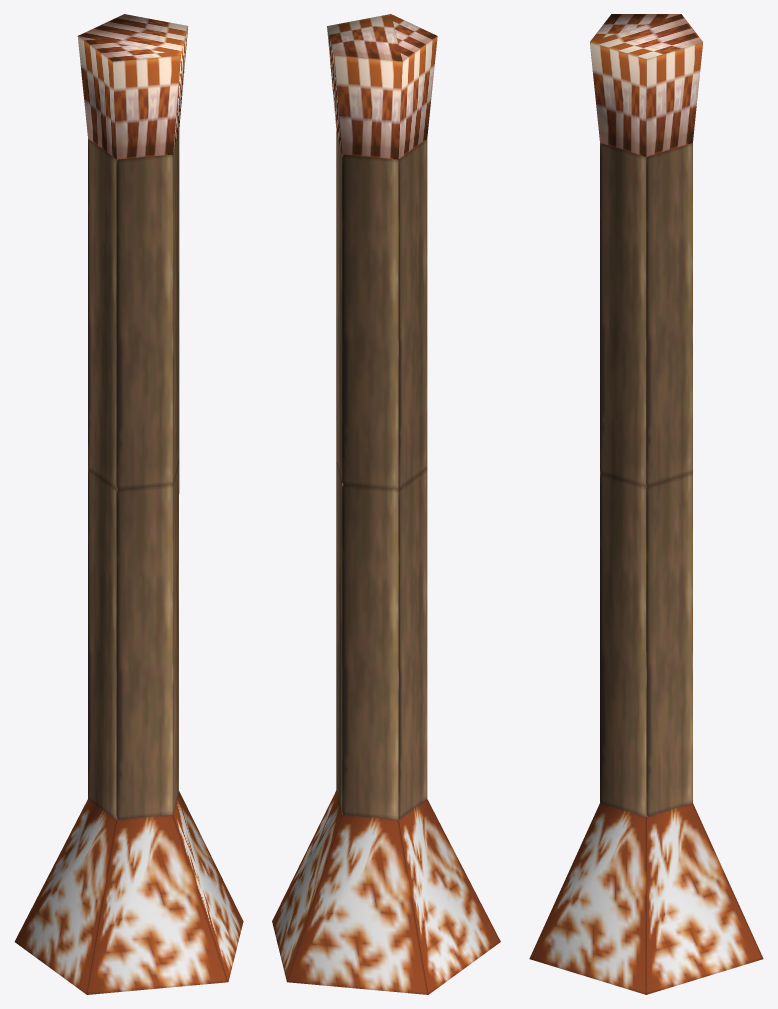
The picture shows the model from 3 angles, left to right: view 1: azimuth 30°, elevation 25°; view 2: azimuth 150°, elevation 25°; view 3: azimuth 270°, elevation 25°; orthographic projection.
Parts seen in each view (by area): view 1: T1L7M005_11; view 2: T1L7M005_11; view 3: T1L7M005_11.
Boxes of the visible parts, x1,y1,x2,y2 form: T1L7M005_11: (14,14,243,994); T1L7M005_11: (272,14,500,994); T1L7M005_11: (529,14,763,994).
Size of the model in its own units: 0.5498 by 2.48 by 0.5791.
